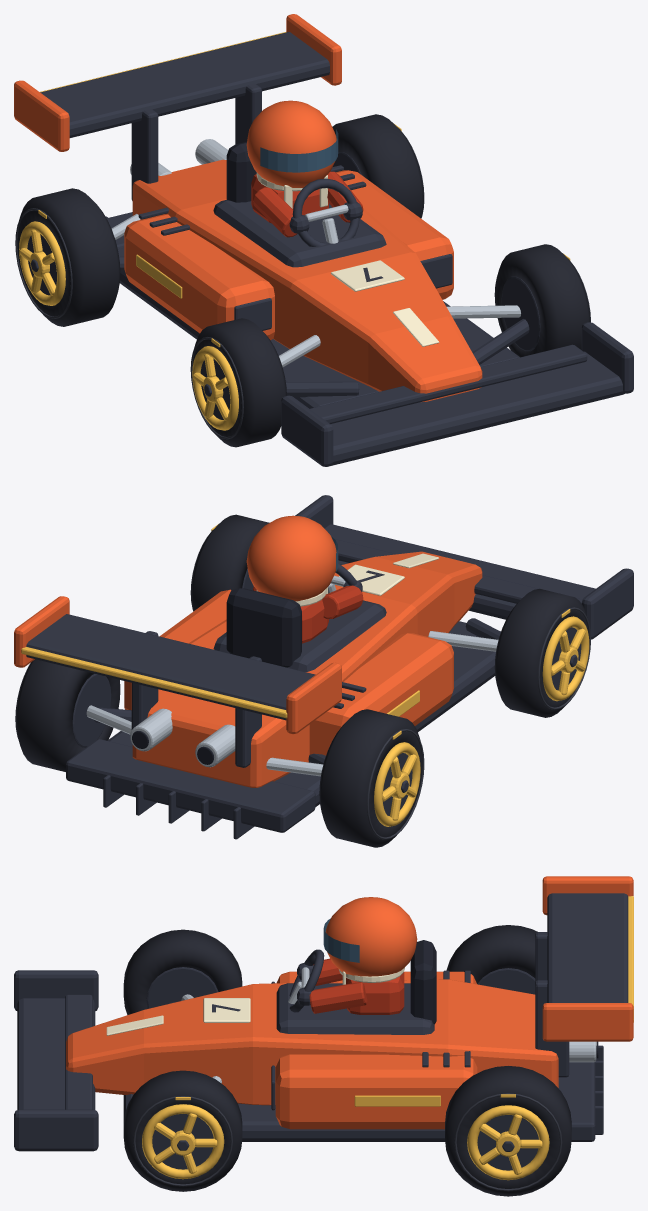
File: orange-kart.glb
3 views of the same model, one above another, from view 1: azimuth 30°, elevation 25°; view 2: azimuth 150°, elevation 25°; view 3: azimuth 270°, elevation 25° (orthographic). The views are drawn at different scales.
Visible parts, largest first — view 1: Tapered_Orange_Monocoque, Rear_Wing_Main, Front_Wing, Orange_Sidepod_-1, Slick_Tire_RL, Slick_Tire_FL, Slick_Tire_FR, Slick_Tire_RR, Driver_Helmet, Cockpit_Recess, Front_Wing_Upper_Flap, Carbon_Undertray (+24 smaller); view 2: Tapered_Orange_Monocoque, Rear_Wing_Main, Rear_Diffuser, Slick_Tire_RL, Orange_Sidepod_-1, Slick_Tire_FL, Slick_Tire_RR, Driver_Helmet, Bucket_Seat_Back, Slick_Tire_FR, Front_Wing, Carbon_Undertray (+25 smaller); view 3: Tapered_Orange_Monocoque, Orange_Sidepod_1, Rear_Wing_Main, Slick_Tire_RR, Slick_Tire_FR, Front_Wing, Driver_Helmet, Slick_Tire_FL, Cockpit_Recess, Carbon_Undertray, Front_Wing_Endplate_1, Rear_Wing_Endplate_1 (+27 smaller).
Boxes of the visible parts, x1,y1,x2,y2 form: Tapered_Orange_Monocoque: (132,159,482,402); Rear_Wing_Main: (40,32,329,137); Front_Wing: (331,351,624,465); Orange_Sidepod_-1: (124,214,274,340); Slick_Tire_RL: (17,188,120,326); Slick_Tire_FL: (192,318,286,447); Slick_Tire_FR: (494,244,590,357); Slick_Tire_RR: (332,114,423,218); Driver_Helmet: (246,100,336,187); Cockpit_Recess: (213,200,386,267); Front_Wing_Upper_Flap: (310,344,587,423); Carbon_Undertray: (118,248,519,408); Tapered_Orange_Monocoque: (132,551,482,787); Rear_Wing_Main: (26,614,315,720); Rear_Diffuser: (66,739,315,832); Slick_Tire_RL: (319,709,422,847); Orange_Sidepod_-1: (309,633,453,755); Slick_Tire_FL: (494,588,588,717); Slick_Tire_RR: (15,659,120,771); Driver_Helmet: (246,515,336,601); Bucket_Seat_Back: (226,588,301,667); Slick_Tire_FR: (191,514,269,611); Front_Wing: (324,524,595,619); Carbon_Undertray: (107,621,500,806); Tapered_Orange_Monocoque: (66,979,558,1105); Orange_Sidepod_1: (275,1054,477,1129); Rear_Wing_Main: (547,893,628,1002); Slick_Tire_RR: (445,1066,571,1196); Slick_Tire_FR: (123,1070,242,1191); Front_Wing: (17,998,95,1109); Driver_Helmet: (325,897,417,976); Slick_Tire_FL: (123,929,242,1014); Cockpit_Recess: (276,983,434,1034); Carbon_Undertray: (123,1094,445,1141); Front_Wing_Endplate_1: (14,1109,98,1151); Rear_Wing_Endplate_1: (542,1003,633,1041).
Size of the model in its own units: 2.52 by 1.48 by 3.81.
